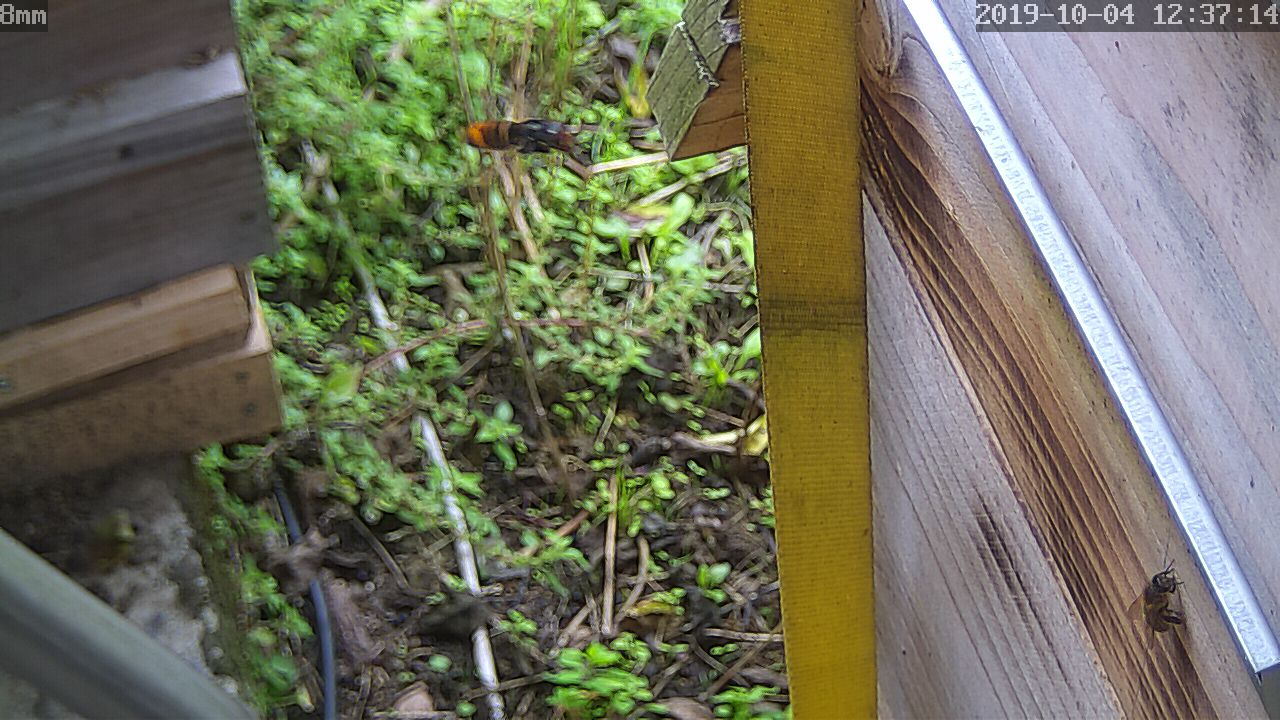bee: (1126, 556, 1186, 637)
hornet: (460, 99, 603, 171)
